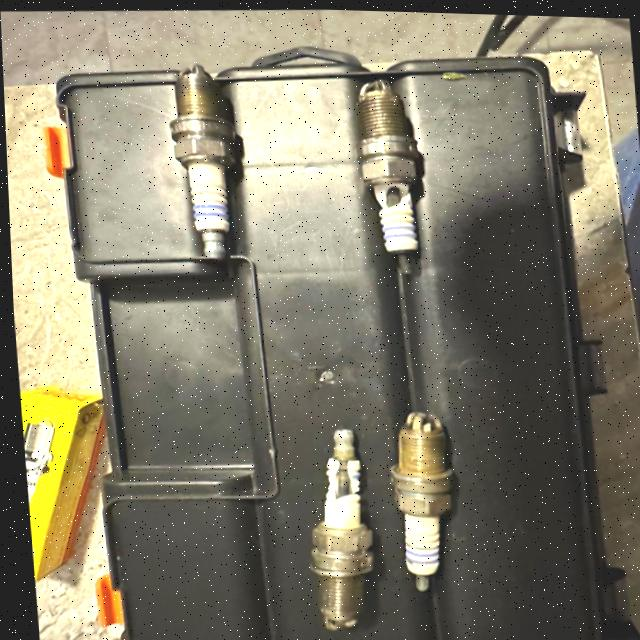damaged_spark-plug: (331, 49, 429, 276), (280, 413, 373, 640)
spark-plug: (151, 58, 245, 256), (377, 397, 465, 597)
